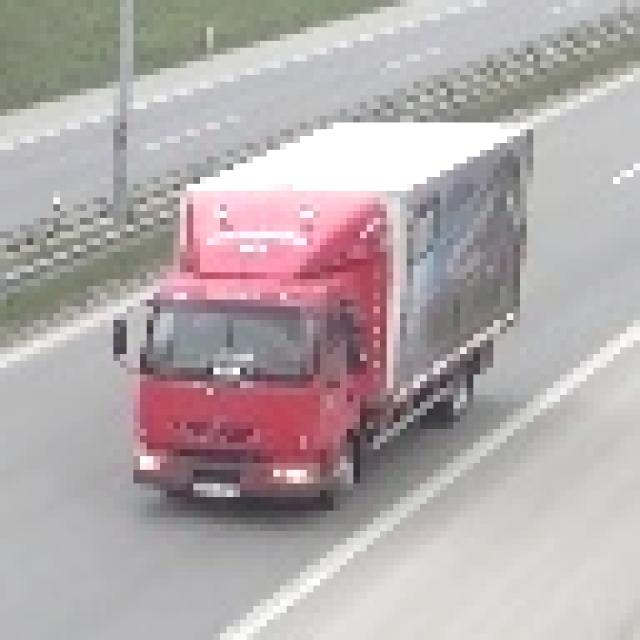truck: (108, 110, 528, 505)
